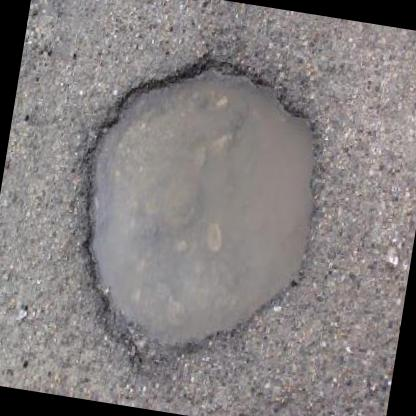pothole: (52, 34, 341, 391)
